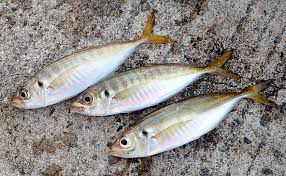azi: (7, 21, 176, 112), (105, 86, 269, 158), (64, 53, 235, 118)
